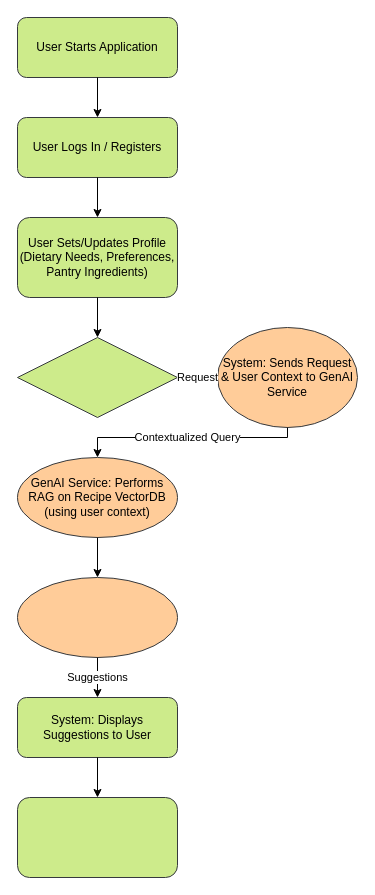
Some shapes in this 375 by 895 pixel diagram are drawn without their labels. The box of each missing label's shape, as (x1, y1, x2, y2) in pixels:
GenAI Service: Generates Suggestions (Recipes / Meal Plan): (16, 576, 178, 658)
User Interacts (Views Details, Saves Recipe/Plan, Adds to Shopping List): (16, 796, 178, 878)
User Requests Recipes OR Meal Plan: (16, 336, 178, 418)
